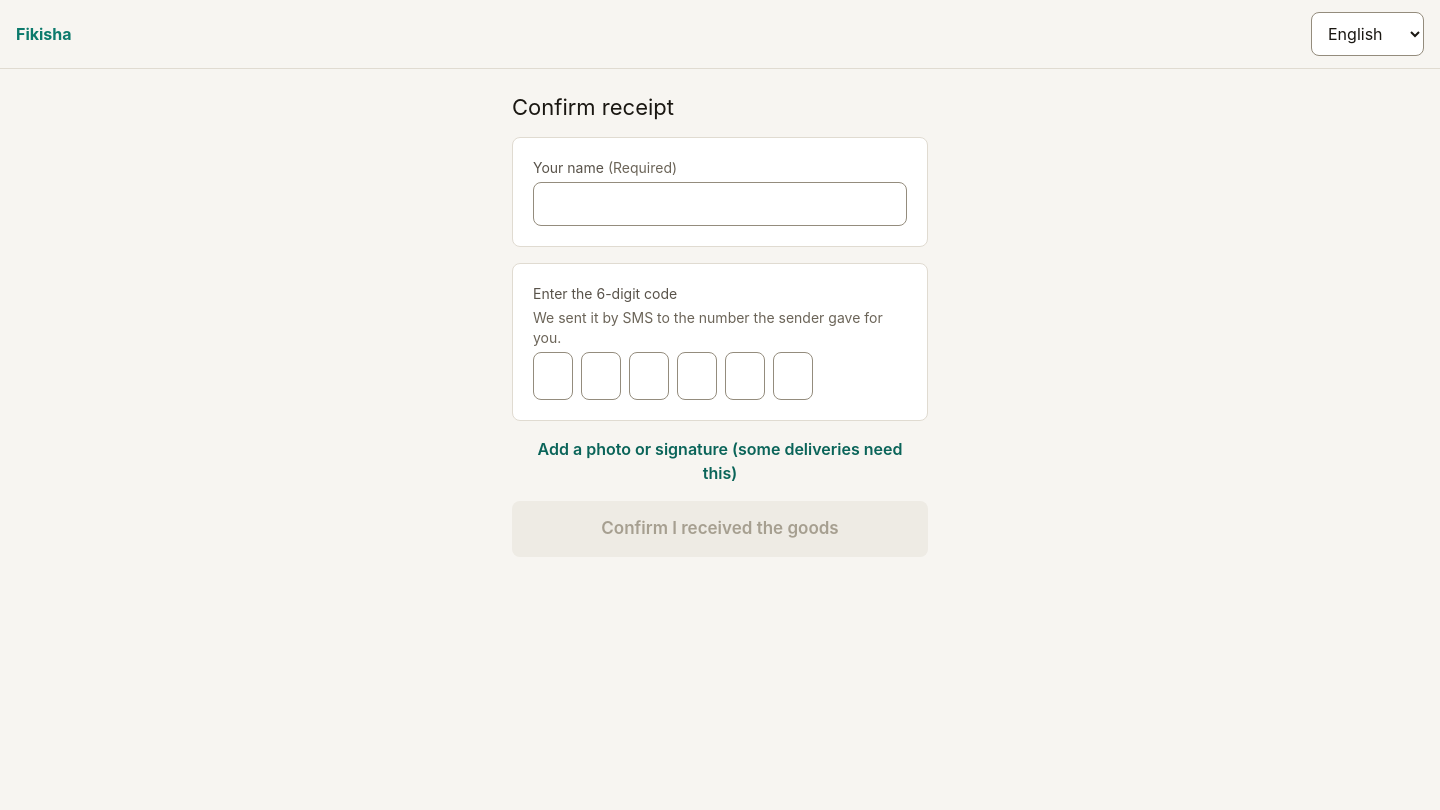
Test case: RecipientConfirmPage › submit stays disabled until a name and a full 6-digit code are entered
Expected: the button "Confirm I received the goods" is disabled, [512, 501, 928, 557]
Type "A. Recipient" into the field labelled "Your name(Required)" at (720,204), box [533, 182, 907, 226]
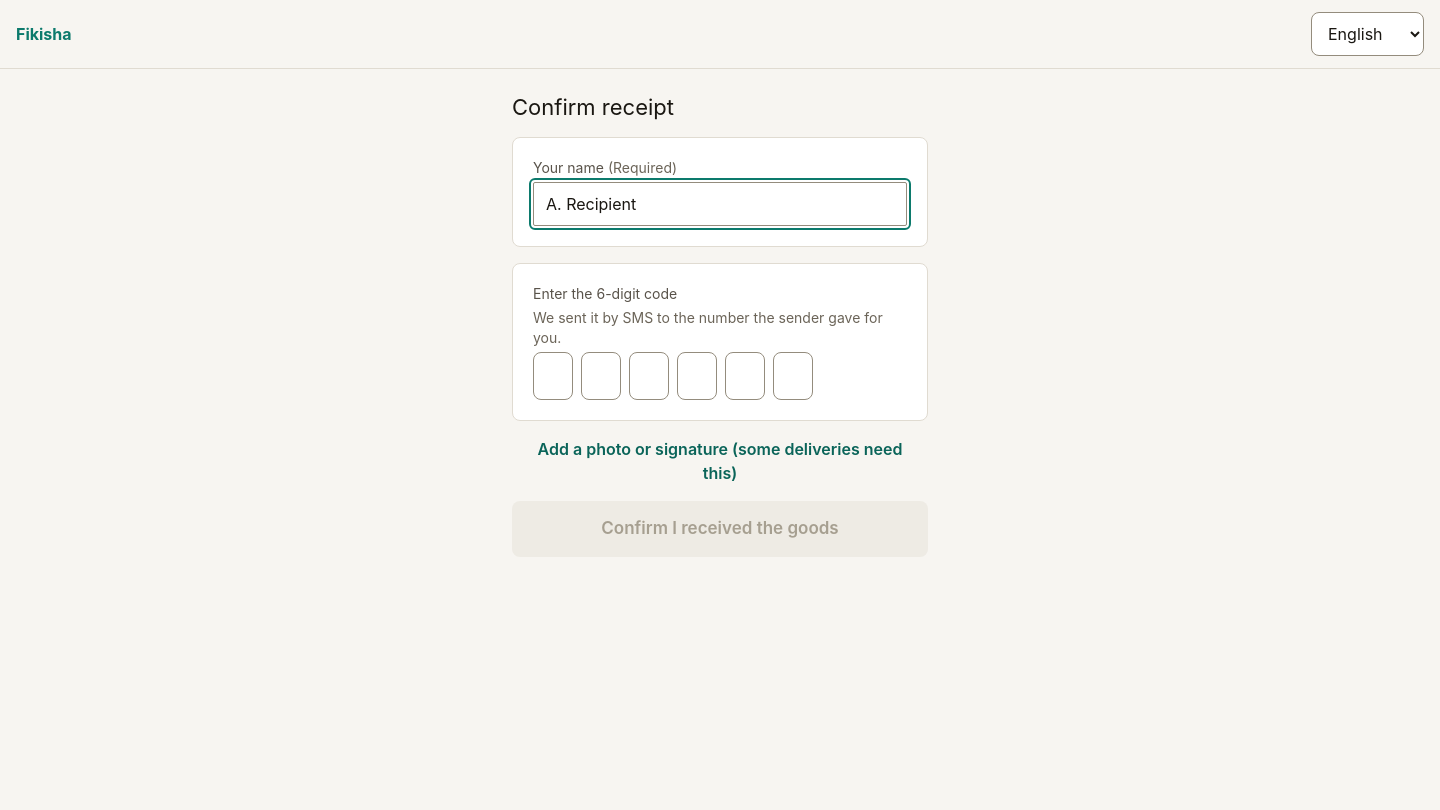
Expected: the button "Confirm I received the goods" is disabled, [512, 501, 928, 557]
Type "1" into the field named "Digit 1 of 6" at (553,376), box [533, 352, 573, 400]
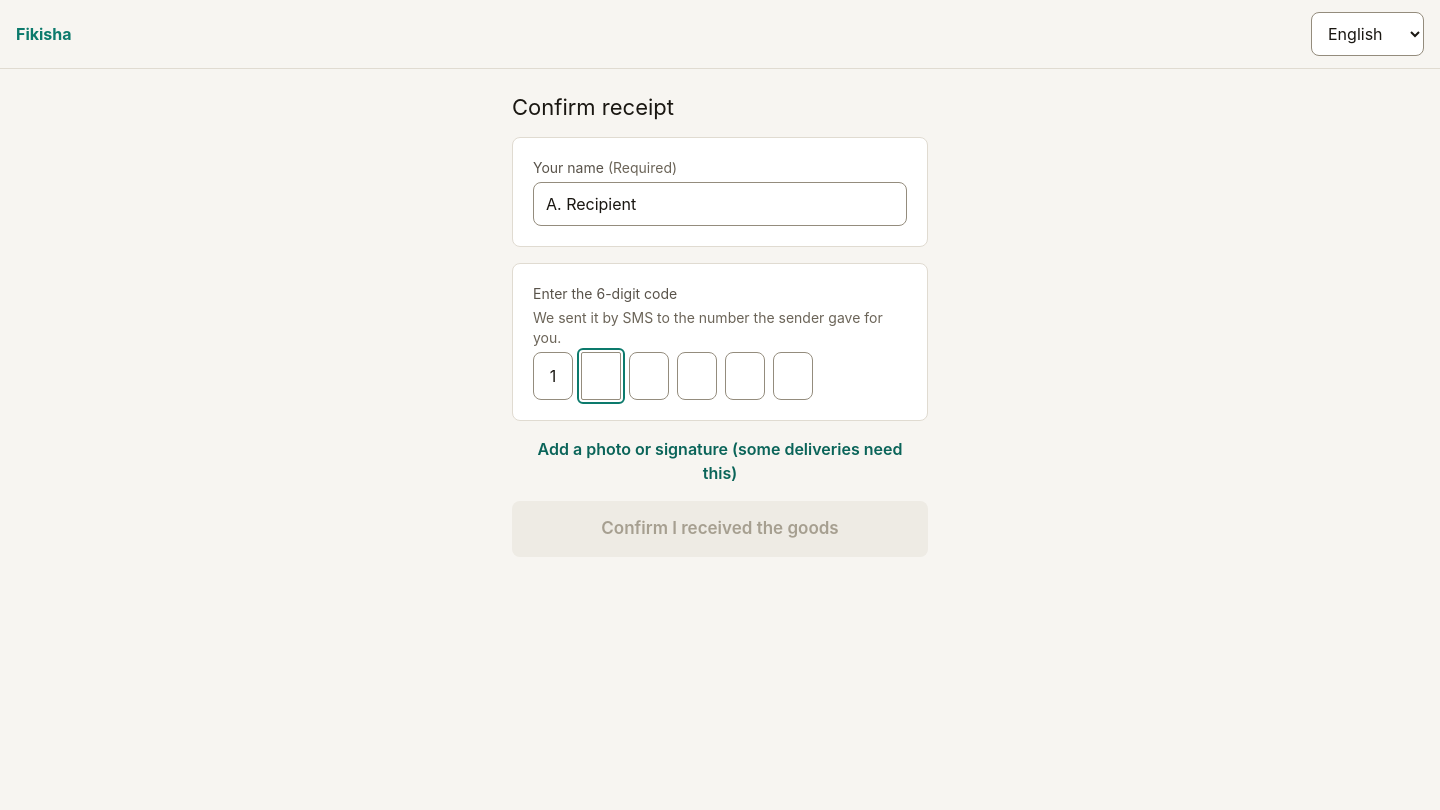
Type "1" into the field named "Digit 2 of 6" at (601,376), box [581, 352, 621, 400]
Type "1" into the field named "Digit 3 of 6" at (649,376), box [629, 352, 669, 400]
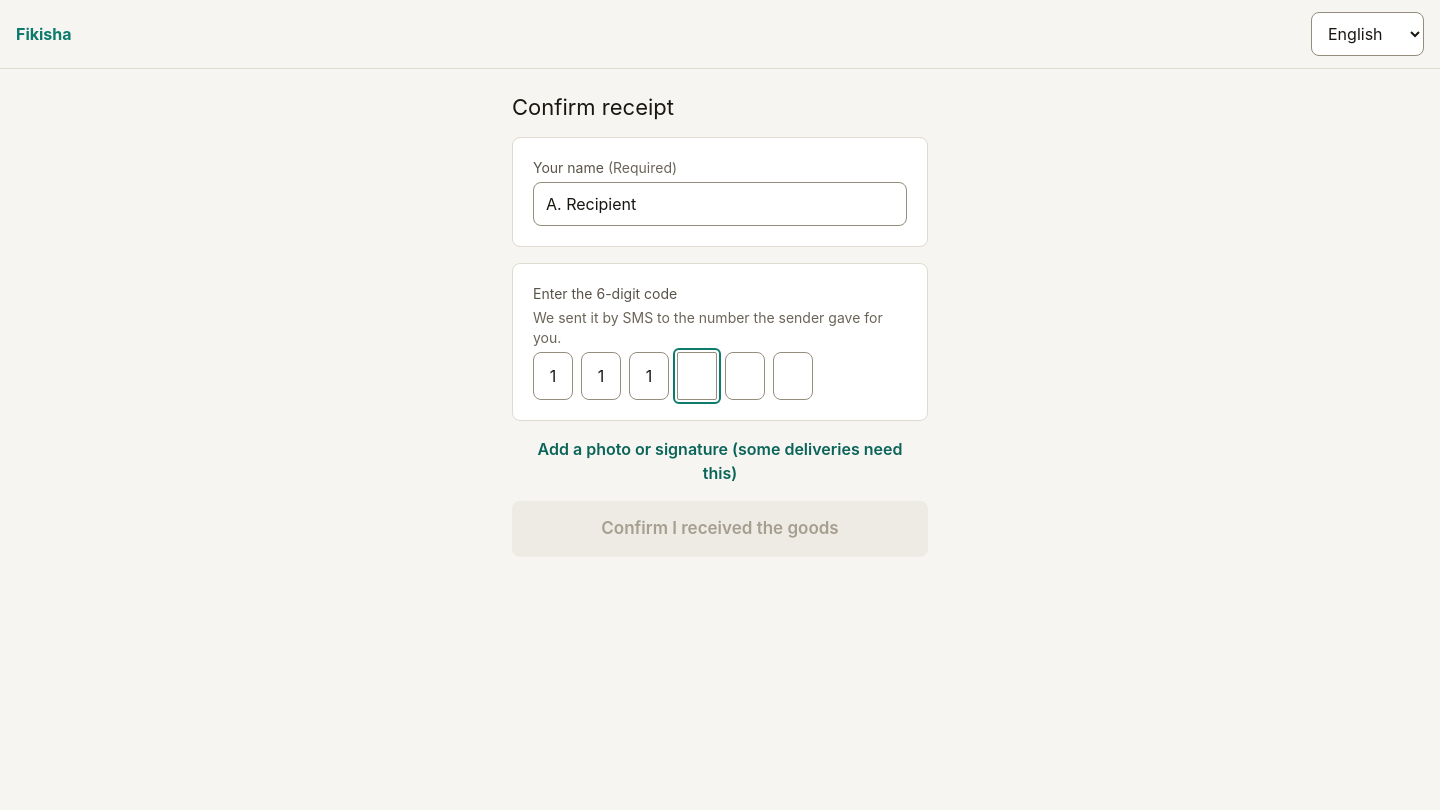
Type "1" into the field named "Digit 4 of 6" at (697,376), box [677, 352, 717, 400]
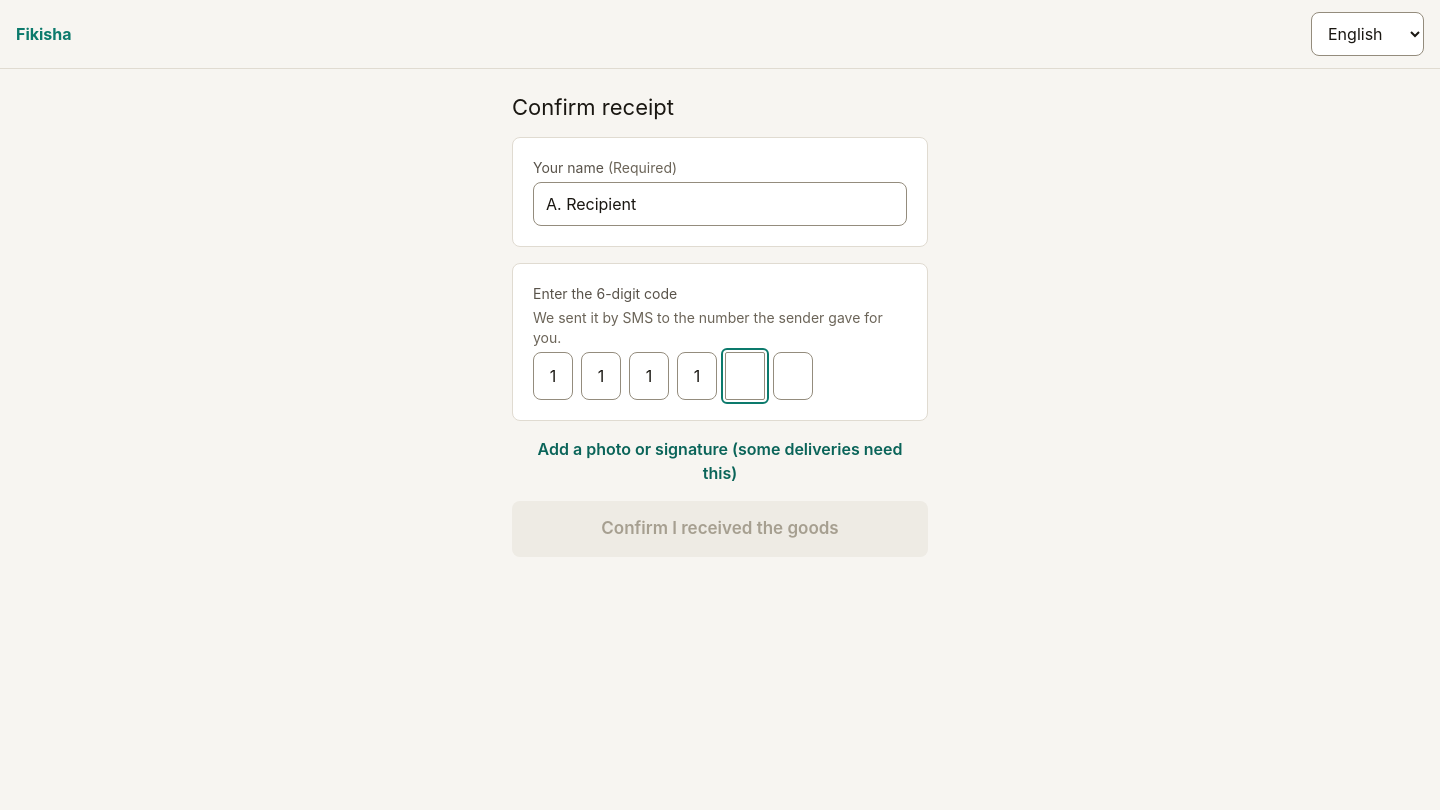
Type "1" into the field named "Digit 5 of 6" at (745,376), box [725, 352, 765, 400]
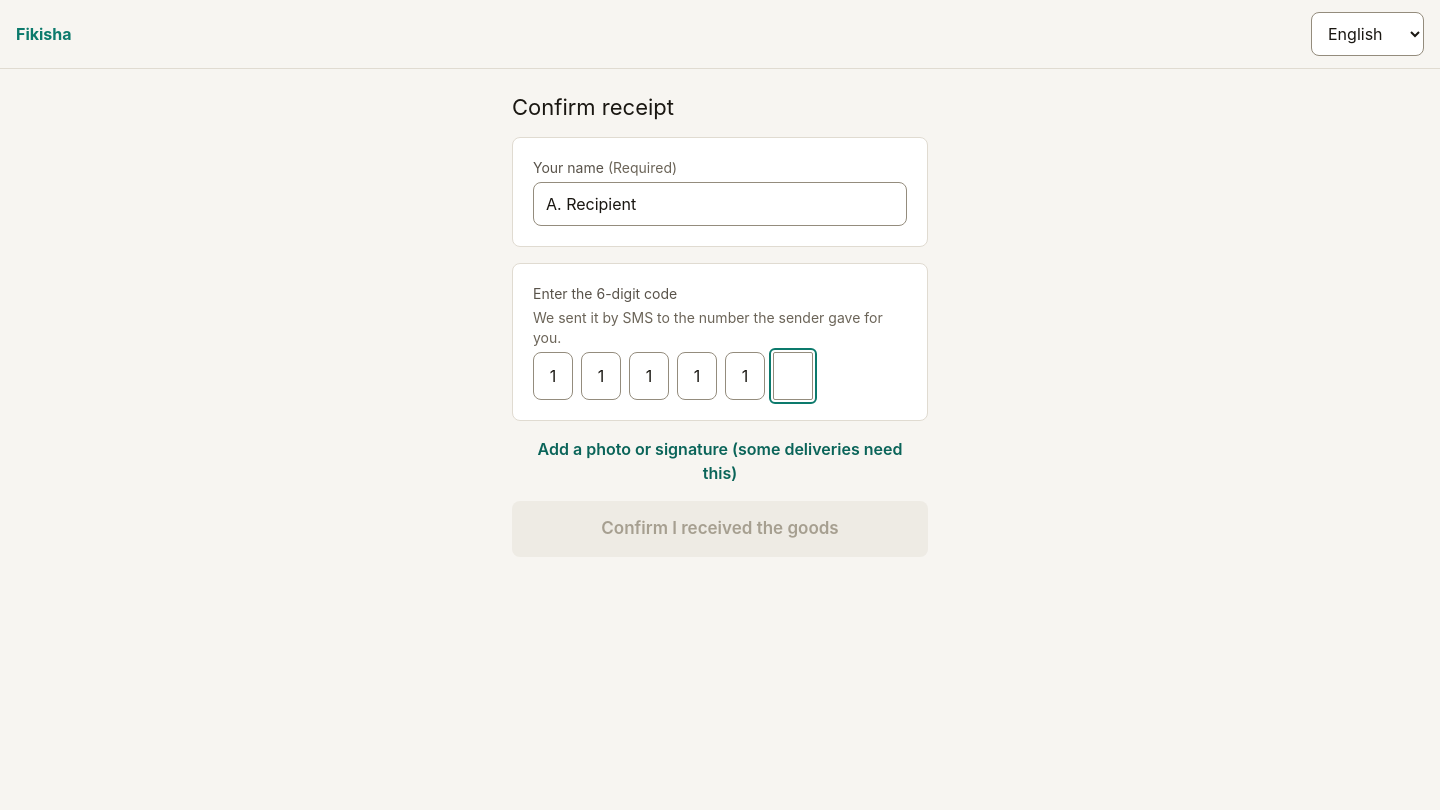
Type "1" into the field named "Digit 6 of 6" at (793,376), box [773, 352, 813, 400]
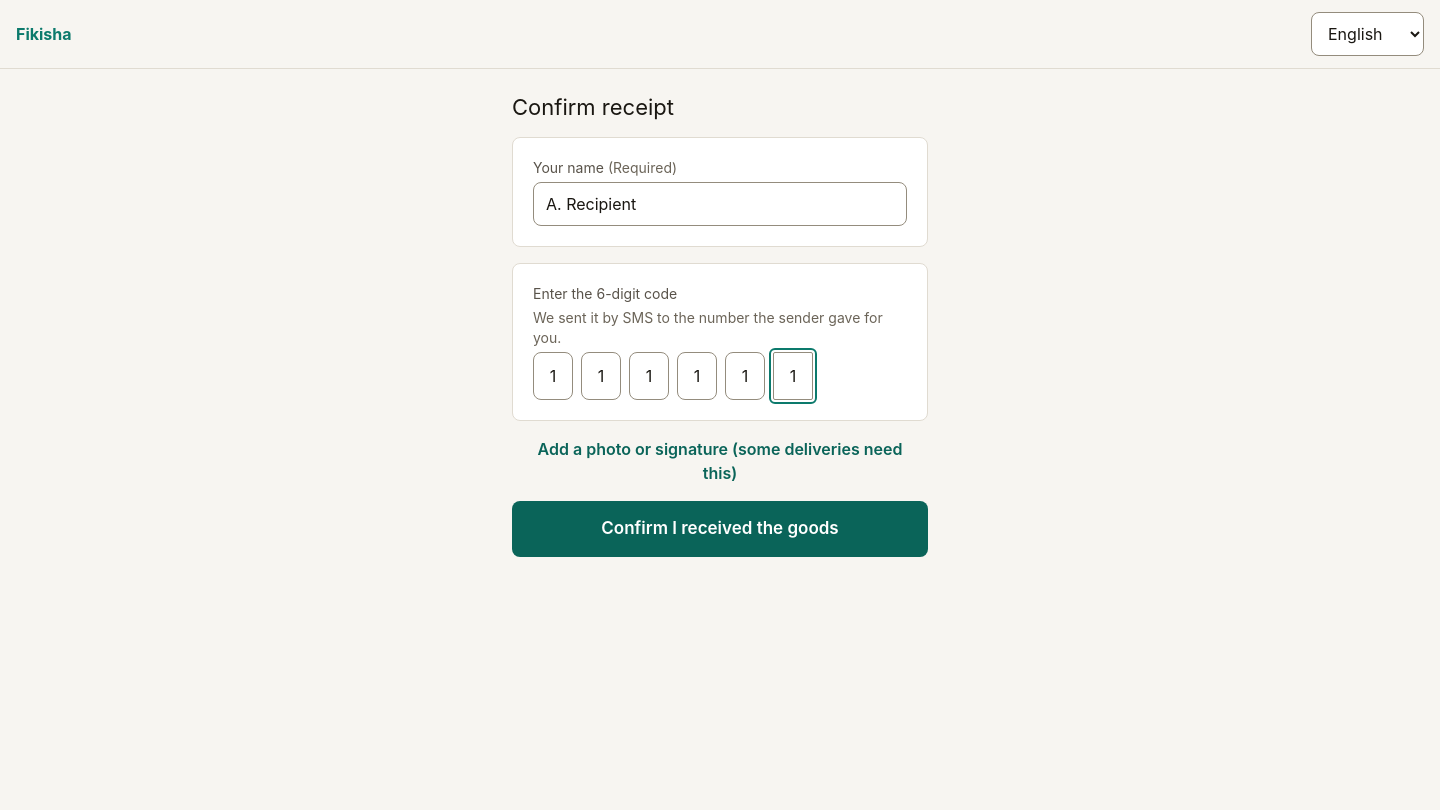
Now the button "Confirm I received the goods" is enabled, box [512, 501, 928, 557]
